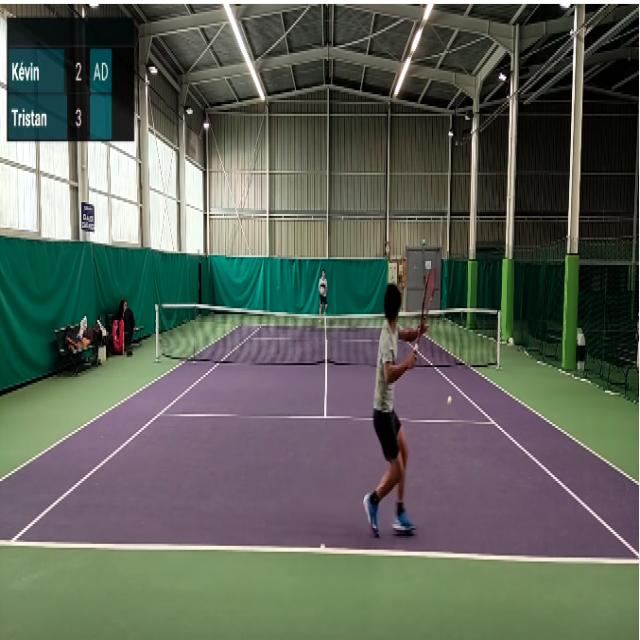ball: (447, 395, 452, 407)
